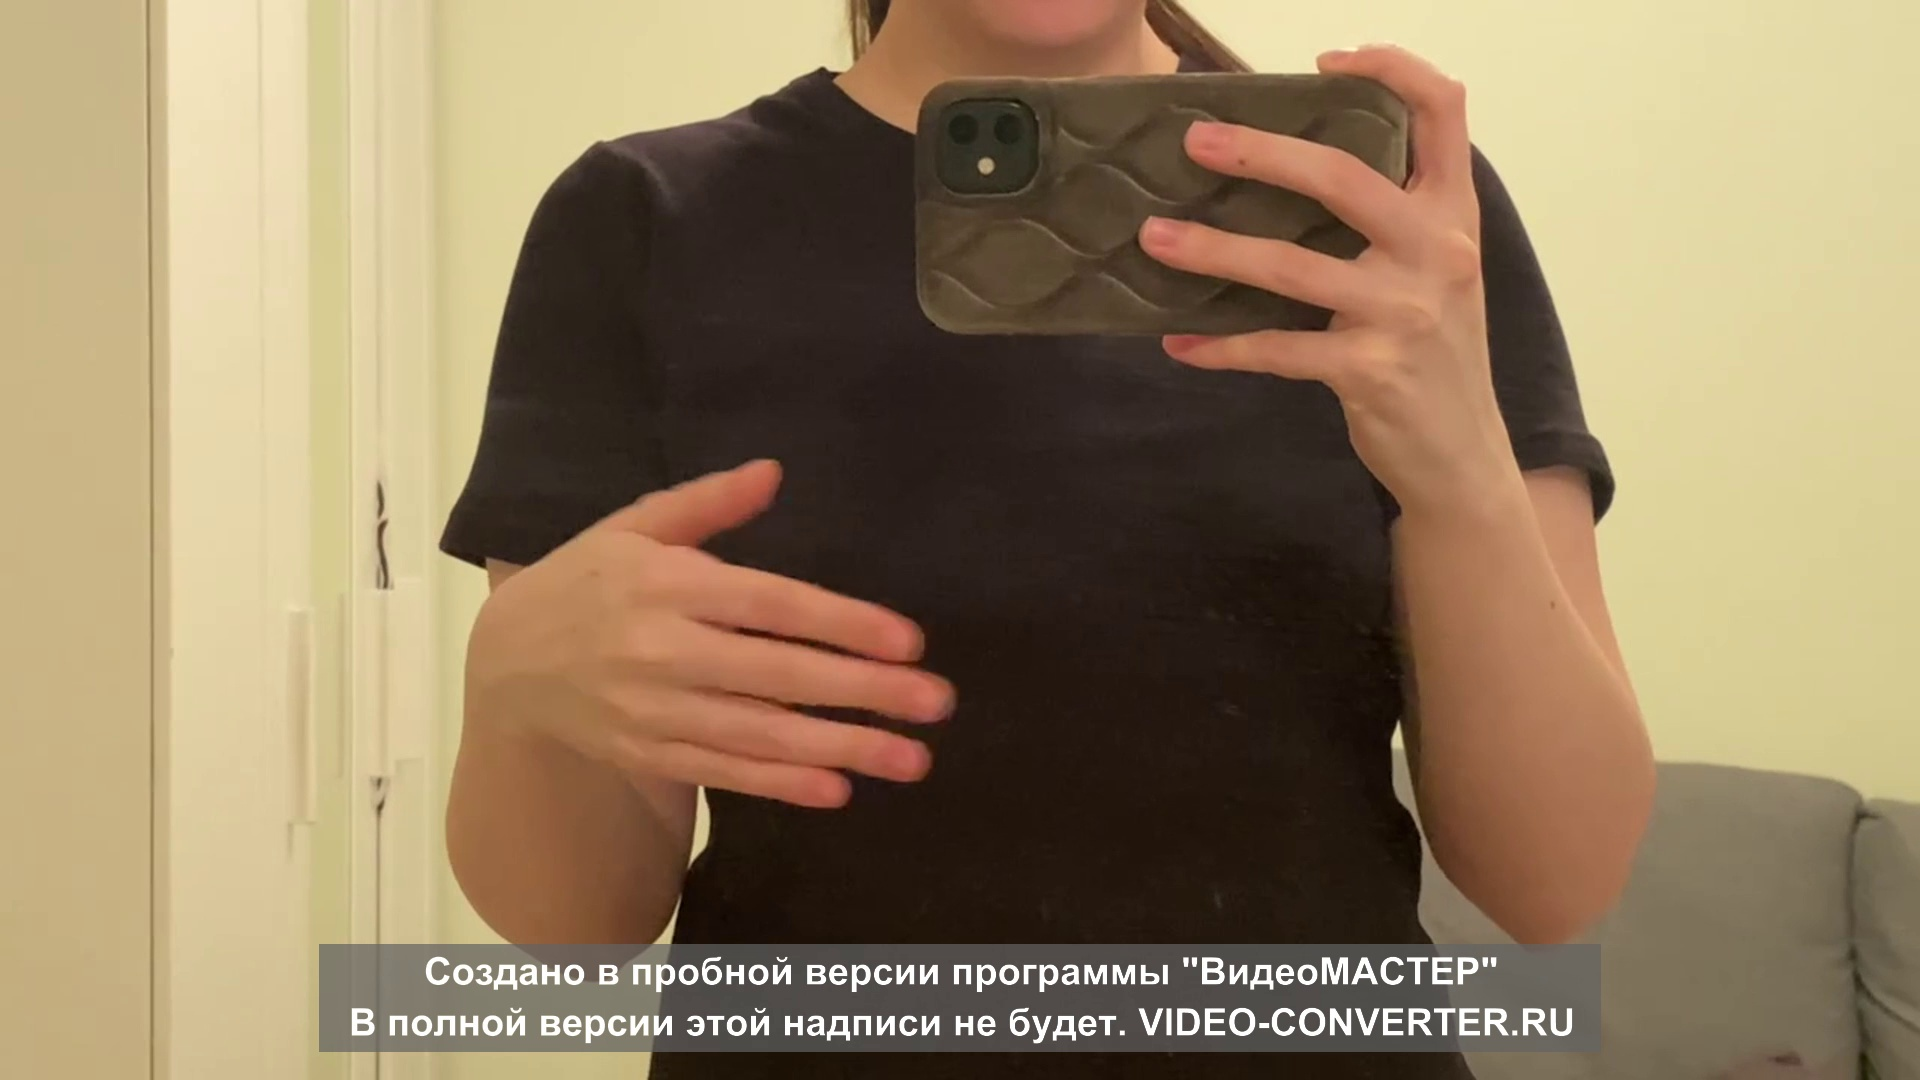Кисть: (467, 456, 961, 808)
